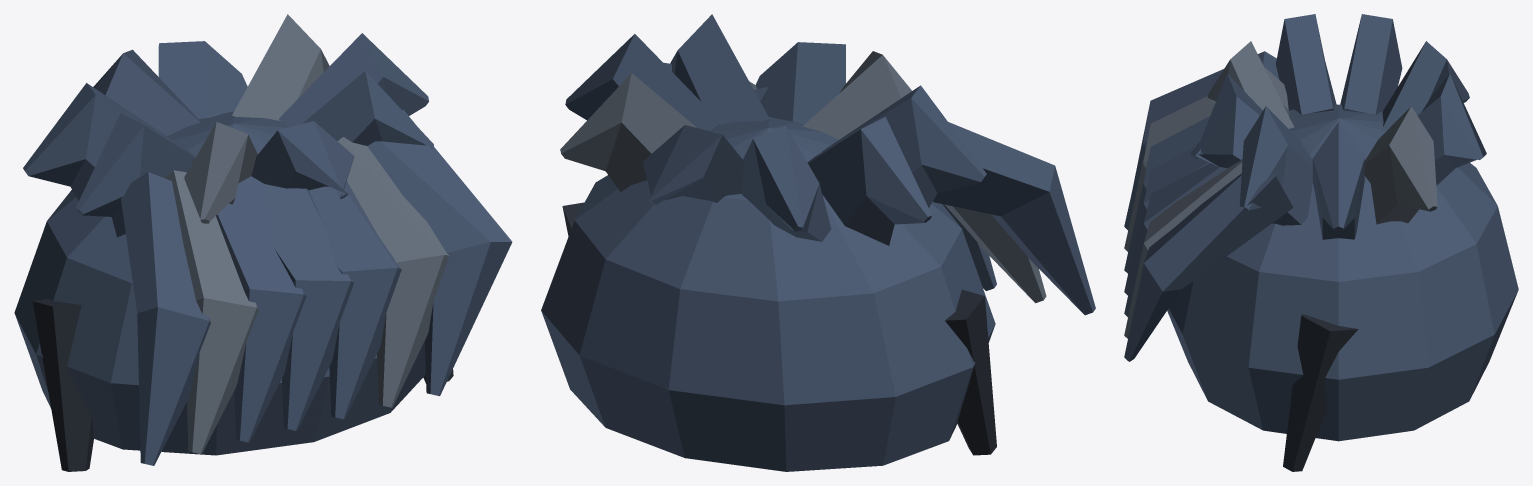
3 views of the same model, side by side, from view 1: azimuth 30°, elevation 25°; view 2: azimuth 150°, elevation 25°; view 3: azimuth 270°, elevation 25° (orthographic). The views are drawn at different scales.
Parts seen in each view (by area): view 1: Copa facetada, Mecha da franja, Mecha da franja.006, Mecha da franja.005, Mecha da franja.002, Mecha da franja.003, Mecha da franja.001, Mecha da franja.004, Mecha superior.005, Costeleta, Mecha superior.004, Mecha superior.007 (+6 smaller); view 2: Copa facetada, Mecha da franja, Mecha superior.004, Mecha superior.001, Mecha superior.003, Mecha superior.005, Mecha superior.002, Mecha superior.008, Mecha superior.007, Mecha superior, Costeleta, Mecha superior.006 (+2 smaller); view 3: Copa facetada, Mecha da franja.006, Mecha superior.001, Mecha superior.008, Costeleta.001, Mecha superior, Mecha superior.004, Mecha superior.005, Mecha superior.002, Mecha superior.007, Mecha superior.003, Mecha superior.006 (+6 smaller).
Part boxes in pixels (box(x1,y1,x2,y2)): Copa facetada: box(14, 111, 425, 455); Mecha da franja: box(121, 172, 210, 465); Mecha da franja.006: box(367, 110, 512, 396); Mecha da franja.005: box(337, 137, 449, 407); Mecha da franja.002: box(216, 176, 306, 442); Mecha da franja.003: box(265, 184, 353, 430); Mecha da franja.001: box(165, 170, 258, 454); Mecha da franja.004: box(309, 181, 401, 419); Mecha superior.005: box(75, 113, 195, 237); Costeleta: box(32, 298, 93, 471); Mecha superior.004: box(23, 83, 181, 200); Mecha superior.007: box(251, 121, 354, 199); Copa facetada: box(541, 117, 995, 471); Mecha da franja: box(933, 122, 1095, 315); Mecha superior.004: box(807, 117, 931, 245); Mecha superior.001: box(560, 73, 696, 191); Mecha superior.003: box(741, 126, 831, 241); Mecha superior.005: box(822, 85, 986, 207); Mecha superior.002: box(643, 125, 743, 205); Mecha superior.008: box(670, 14, 769, 125); Mecha superior.007: box(756, 42, 845, 127); Mecha superior: box(565, 34, 721, 131); Costeleta: box(945, 289, 996, 455); Mecha superior.006: box(803, 51, 911, 139); Copa facetada: box(1167, 104, 1518, 441); Mecha da franja.006: box(1124, 173, 1293, 361); Mecha superior.001: box(1364, 106, 1437, 224); Mecha superior.008: box(1239, 106, 1312, 225); Costeleta.001: box(1283, 314, 1358, 471); Mecha superior: box(1312, 122, 1364, 239); Mecha superior.004: box(1340, 14, 1402, 115); Mecha superior.005: box(1275, 14, 1336, 115); Mecha superior.002: box(1417, 74, 1486, 184); Mecha superior.007: box(1190, 73, 1262, 168); Mecha superior.003: box(1382, 41, 1469, 129); Mecha superior.006: box(1207, 41, 1293, 128).
Bounding box in the file's own units: 1.05 × 0.8542 × 0.942.
